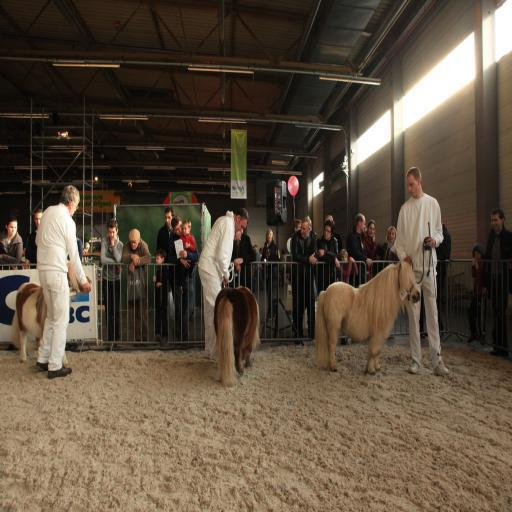horse: (313, 258, 422, 374), (10, 260, 92, 363), (212, 284, 260, 388)
